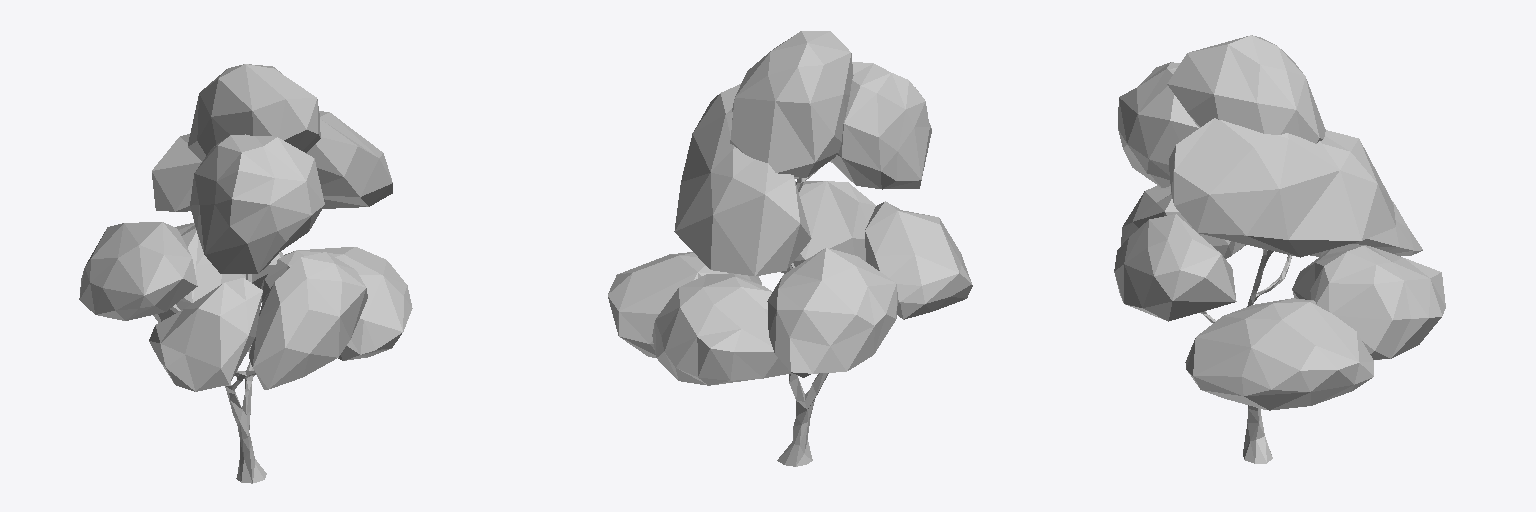
File: tree_001.obj
3 renders of one model, left to right at view 1: azimuth 30°, elevation 25°; view 2: azimuth 150°, elevation 25°; view 3: azimuth 270°, elevation 25°, orthographic.
Parts seen in each view (by area): view 1: tree_001; view 2: tree_001; view 3: tree_001.
Part boxes in pixels (x1,y1,x2,y2): tree_001: (79, 64, 412, 483); tree_001: (608, 31, 972, 466); tree_001: (1114, 35, 1445, 463).
Size of the model in its own units: 5.8 by 7.86 by 5.67.